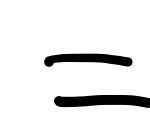eqv: (41, 52, 150, 108)
